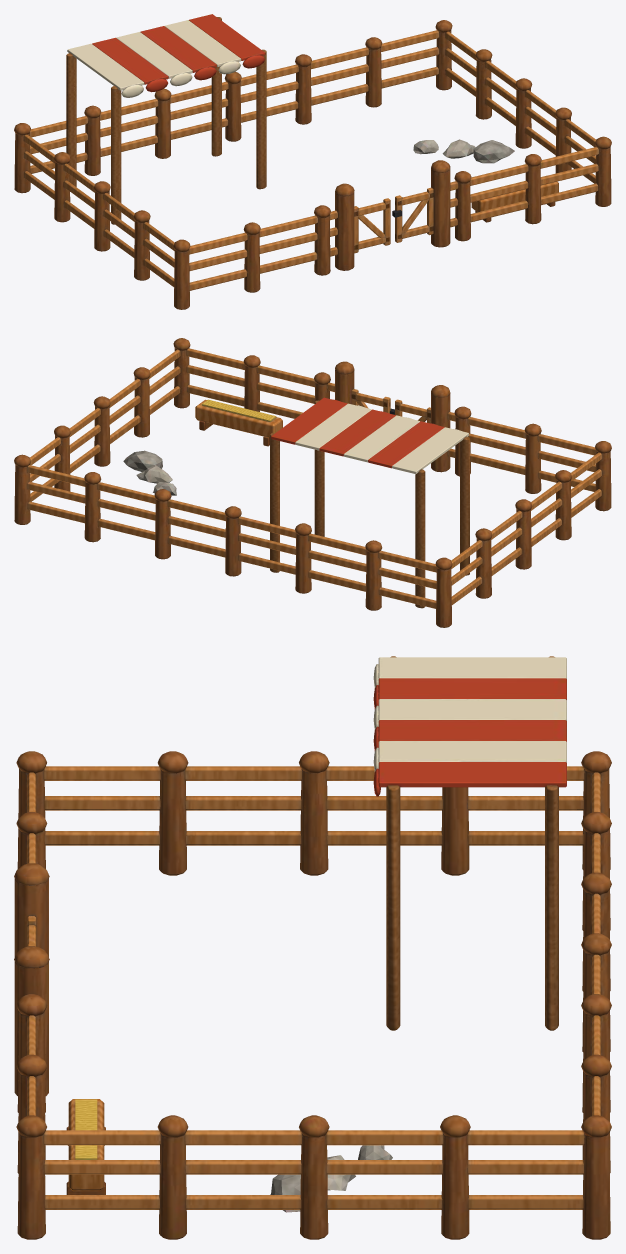
Rendered from bactrian_corral.glb.
3 views of the same model, one above another, from view 1: azimuth 30°, elevation 25°; view 2: azimuth 150°, elevation 25°; view 3: azimuth 270°, elevation 25° (orthographic). The views are drawn at different scales.
Parts seen in each view (by area): view 1: bactrian_corral, gate1, gate0; view 2: bactrian_corral, gate1, gate0; view 3: bactrian_corral.
Part boxes in pixels (x1,y1,x2,y2): bactrian_corral: (14,14,611,309); gate1: (392,187,433,242); gate0: (354,198,390,253); bactrian_corral: (14,338,611,627); gate1: (351,389,394,414); gate0: (395,399,430,423); bactrian_corral: (14,656,611,1239).
Bounding box in the file's own units: 3 × 0.9099 × 2.01.
Materials: 1 (1 with a texture image).
